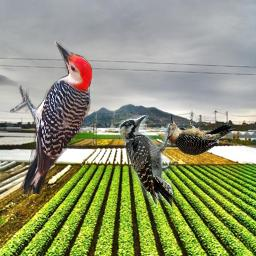Woodpecker: (10, 40, 92, 194), (118, 115, 178, 210), (160, 112, 238, 156)
